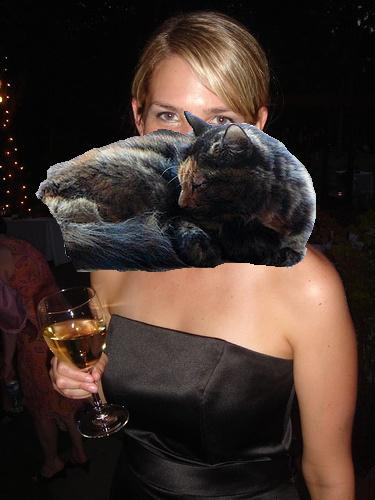tampered: (36, 112, 316, 272)
